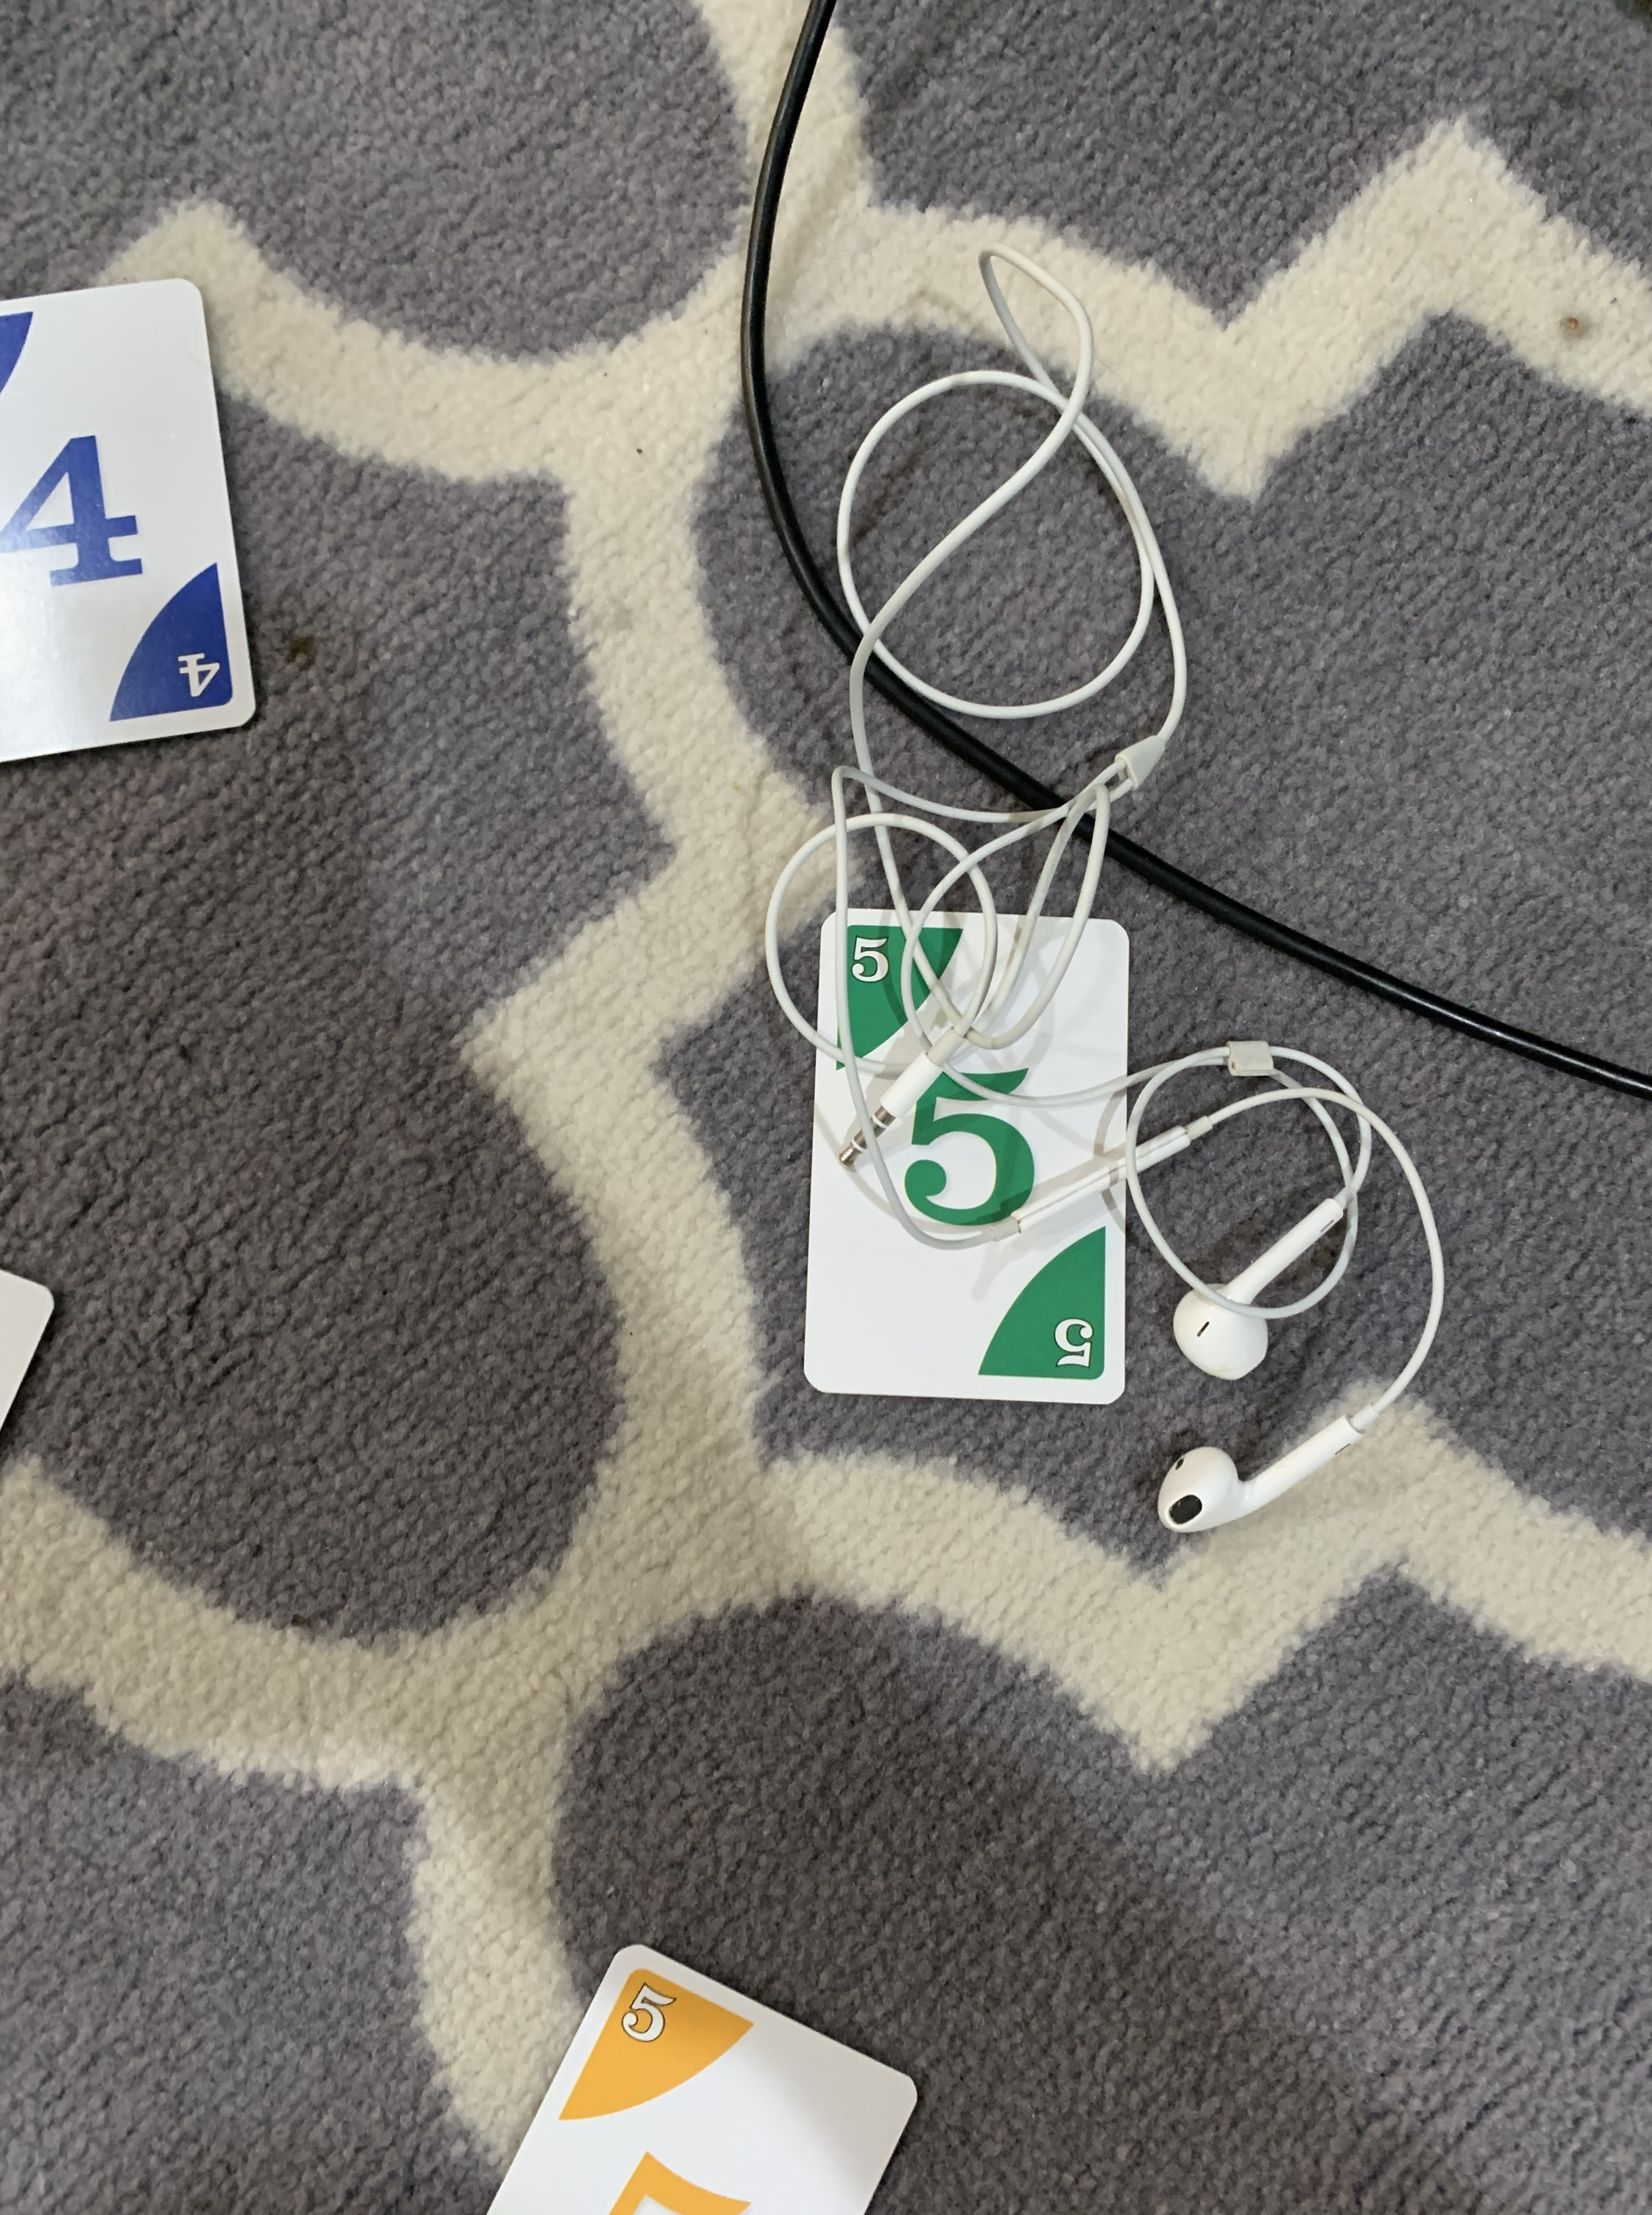five: (779, 892, 1144, 1425)
four: (0, 267, 269, 800)
